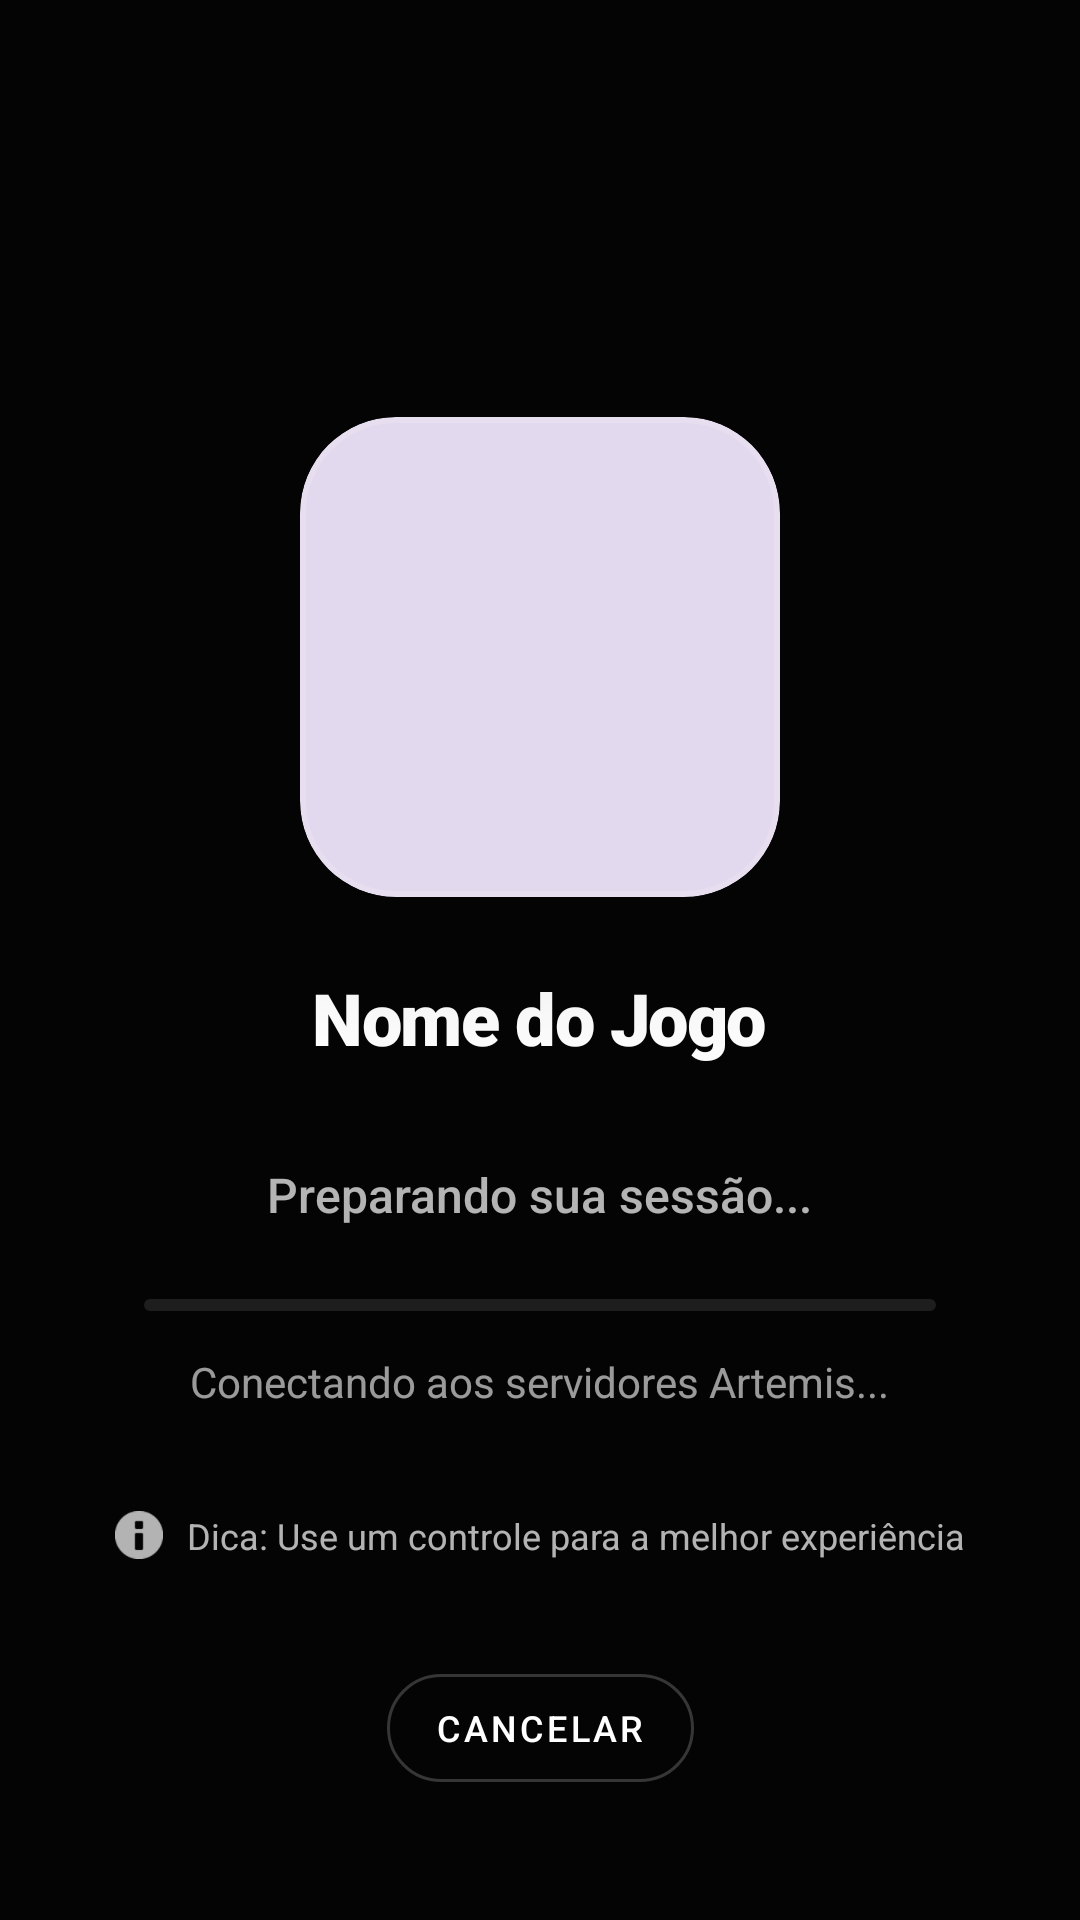

Icons on this 1080px×1920px Android screen, each with the point to tap as (x,y):
info: (139,1535)
